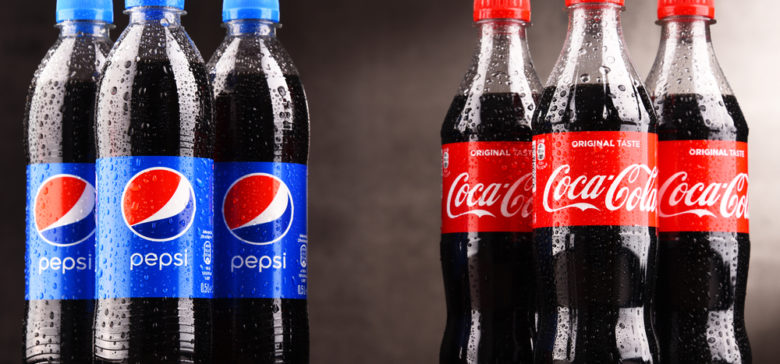pepsi: (122, 163, 195, 239), (223, 172, 292, 243), (223, 172, 292, 240), (30, 175, 98, 243)
